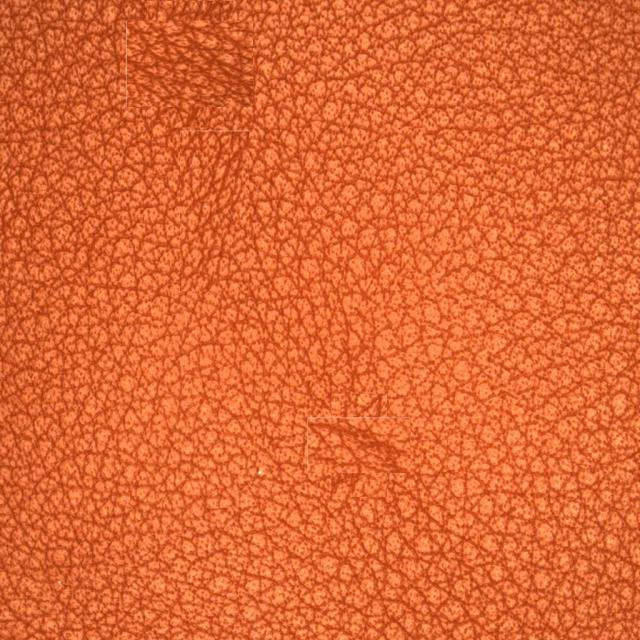Healed Injury: (156, 165, 306, 333), (283, 354, 423, 527), (116, 15, 292, 136)
